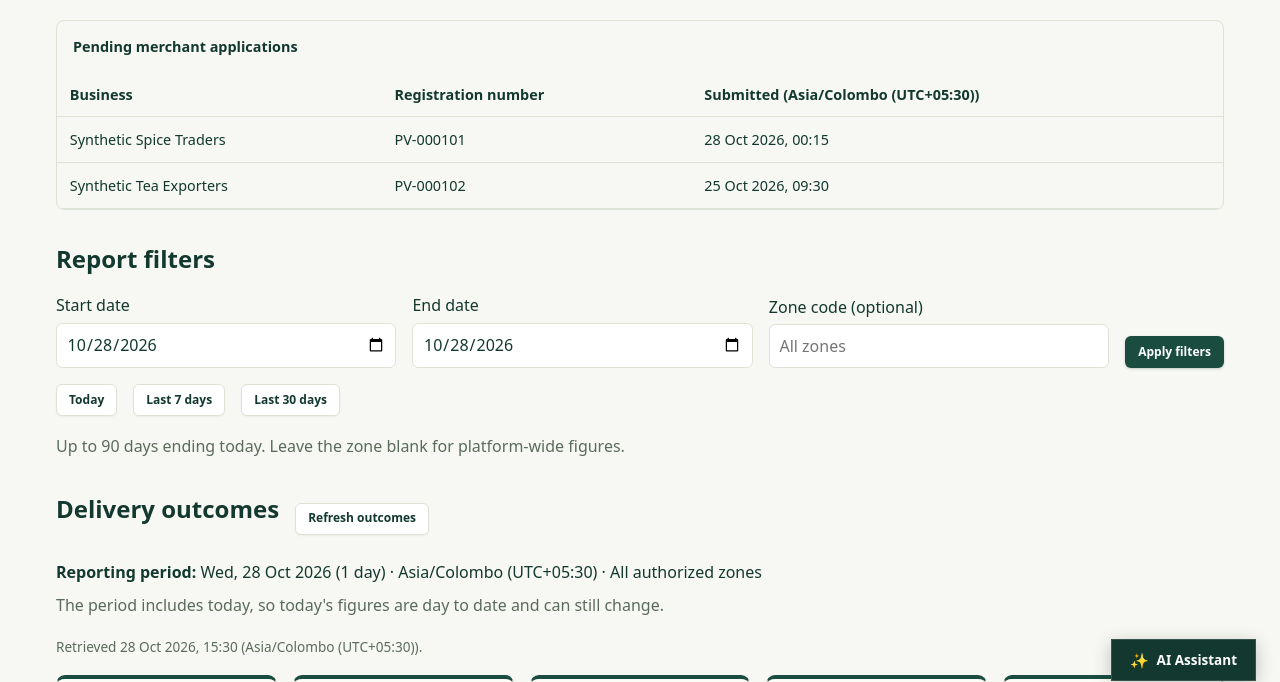
Scenario: report filters › applies a validated date range, then requests per-day server aggregates with a partial-failure state
(page scrolled)
Expected: the heading "Daily outcomes by reporting day" is not shown
In the date field labelled "Start date": {"x": 226, "y": 346} top-left (56, 323), bottom-right (396, 368), type "2026-10-26"
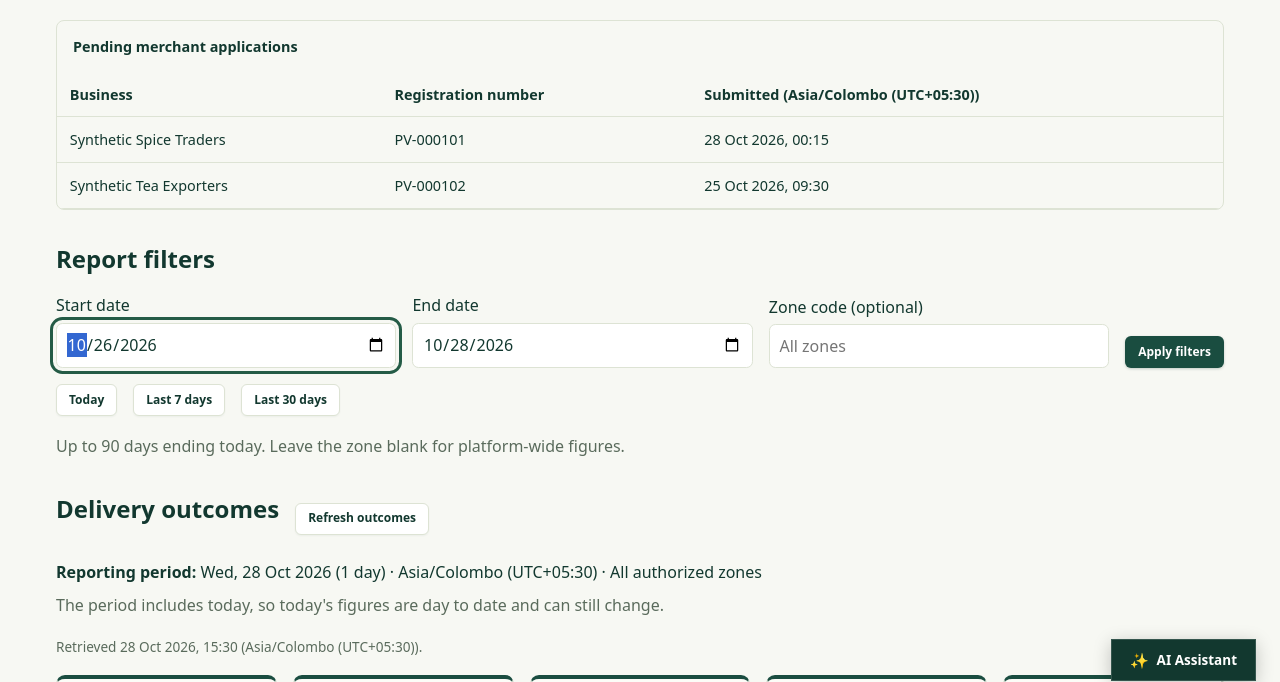
Click the button "Apply filters": {"x": 1175, "y": 352} top-left (1125, 336), bottom-right (1224, 368)
(page scrolled)
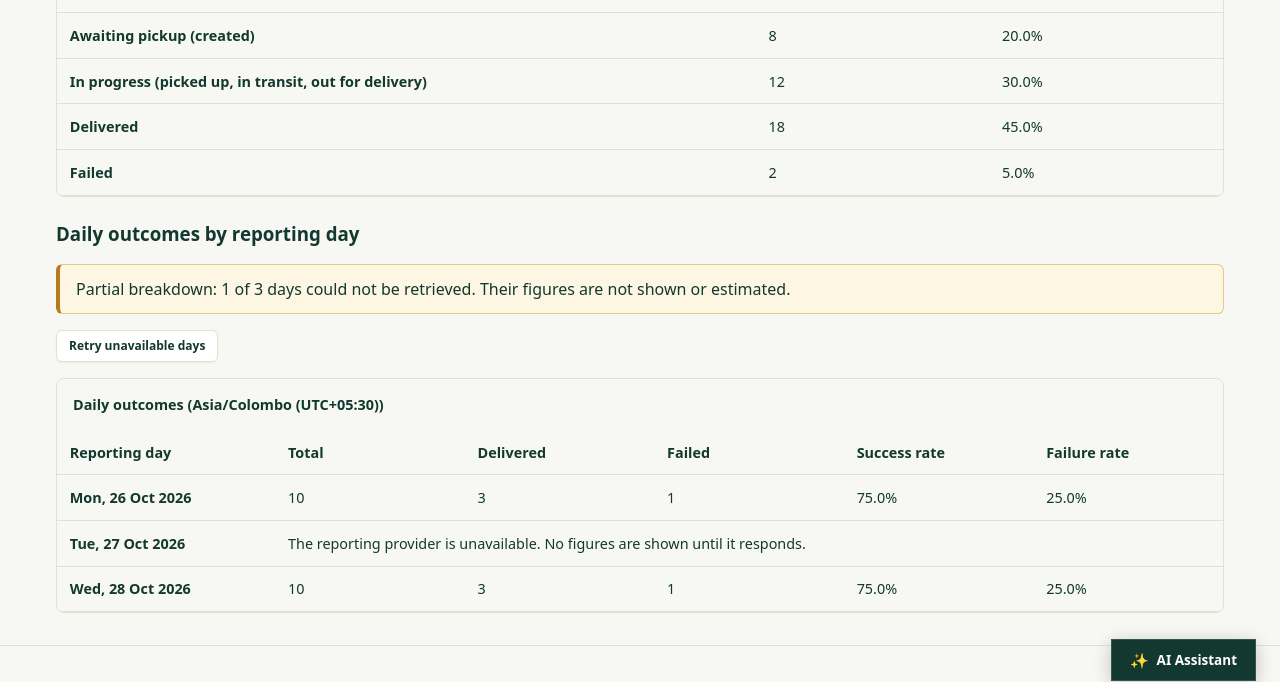
Expected: the text "75.0%" is shown 2 times, top-left (844, 475), bottom-right (1033, 521); top-left (844, 566), bottom-right (1033, 612)
Expected: the row "Tue, 27 Oct 2026" shows "The reporting provider is unavailable", top-left (288, 534), bottom-right (806, 553)
Expected: the text "Partial breakdown: 1 of 3 days could not be retrieved. Their figures are not shown or estimated." is shown, top-left (56, 264), bottom-right (1224, 314)
